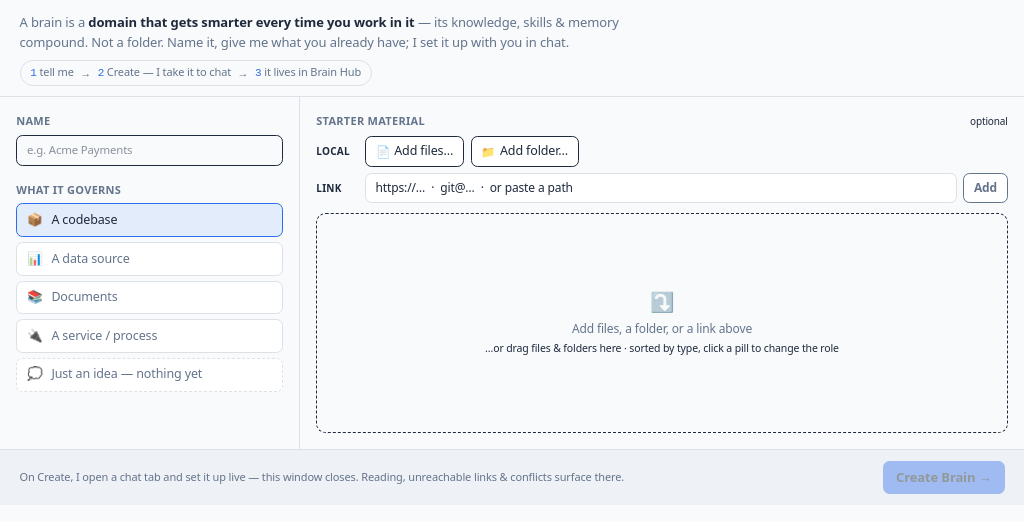
Test: NewBrainOverlay › a role pill cycles GOVERN→DISTILL→SHELF on click (user override)
Type "github.com/acme/payments" into the field with test id "new-brain-material-input" at (661, 188), box 365,173 -> 957,203
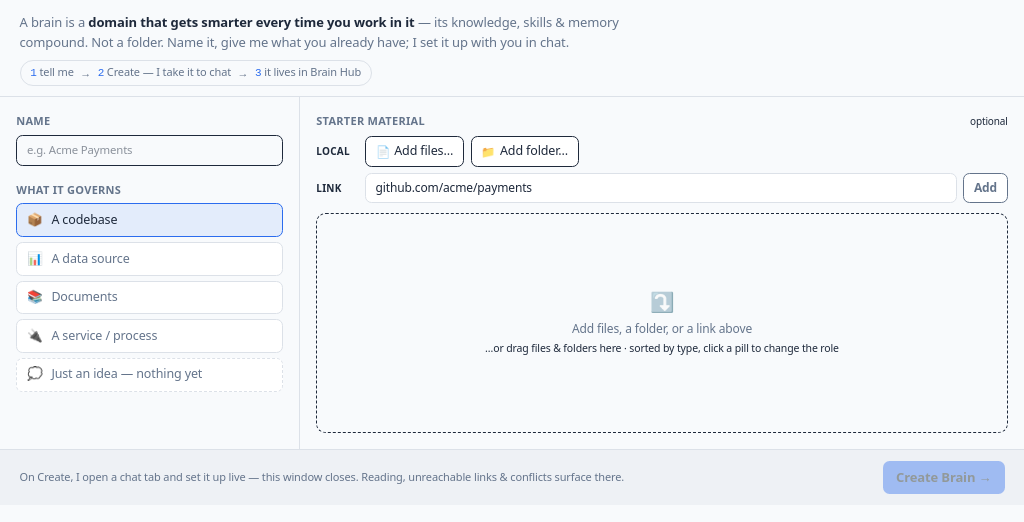
Press Enter in the field with test id "new-brain-material-input", box 365,173 -> 957,203
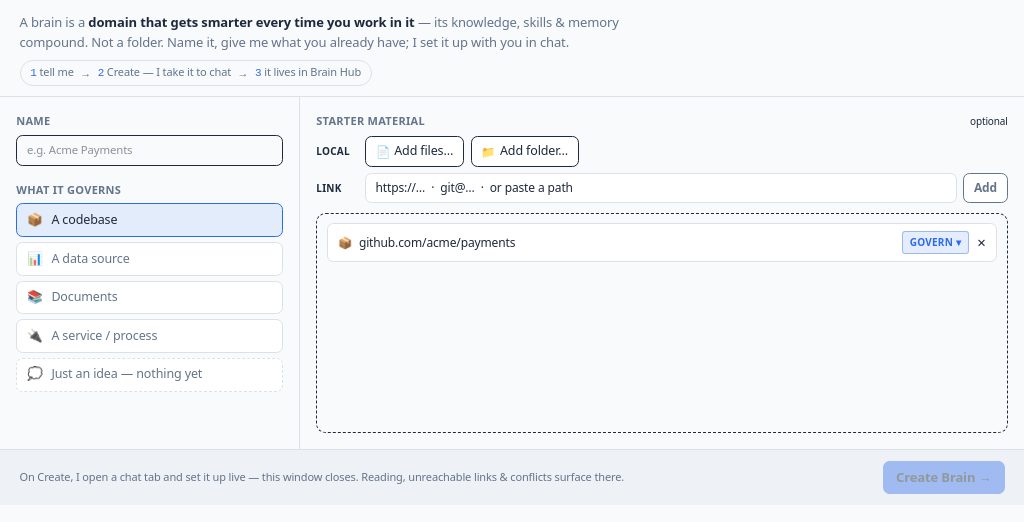
Click the button "GOVERN ▾" at (936, 243), box 902,231 -> 969,254
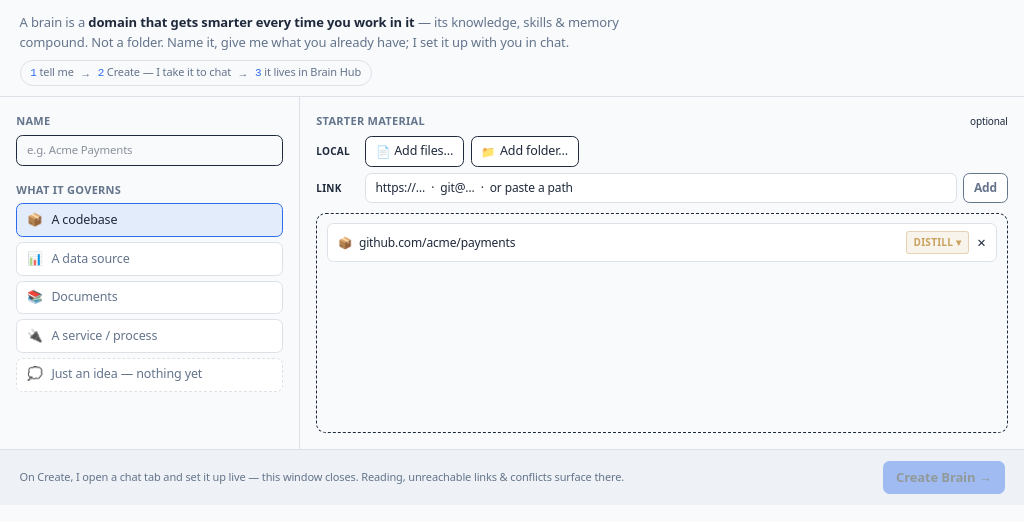
Check: the button "DISTILL ▾" is shown, box 906,231 -> 969,254
